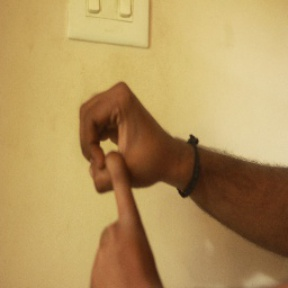Q: (56, 77, 188, 285)
